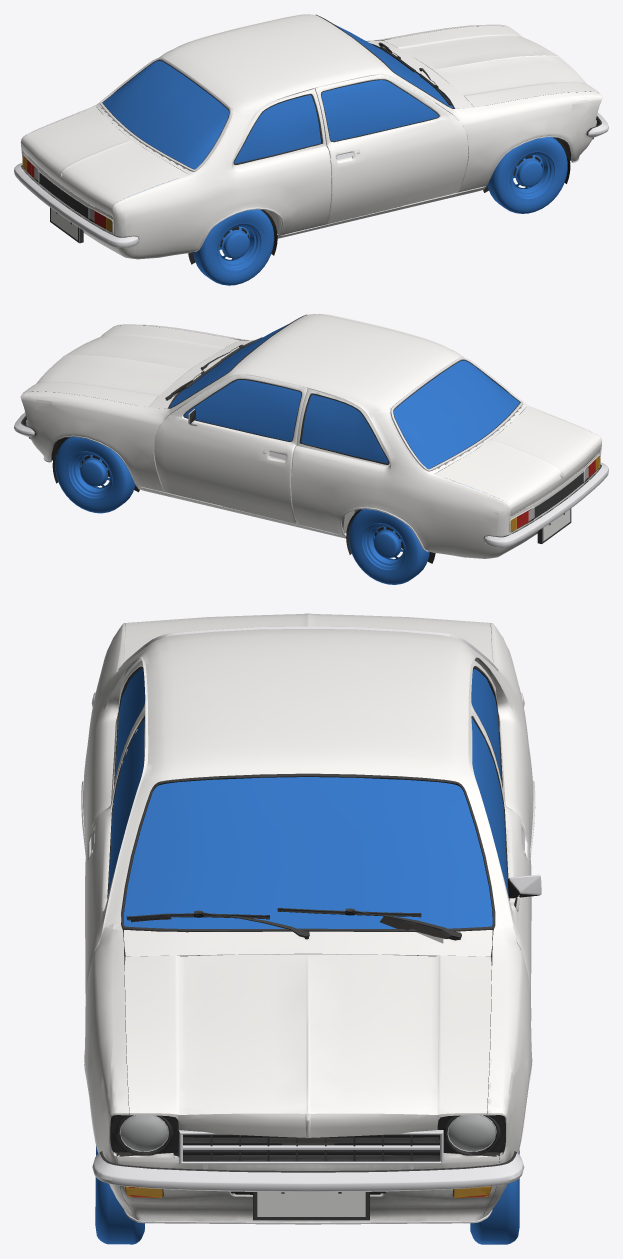
File: lambari.glb
3 views of the same model, one above another, from view 1: azimuth 30°, elevation 25°; view 2: azimuth 150°, elevation 25°; view 3: azimuth 270°, elevation 25° (orthographic). The views are drawn at different scales.
Parts seen in each view (by area): view 1: body, door_fr, hood, trunk, glass_rear, fender_front_right, glass_door_fr, glass_door_rr, wheel_fr_tire, wheel_rr_tire, bumper_rear, wheel_fr_rim (+3 smaller); view 2: body, door_fl, hood, trunk, glass_rear, fender_front_left, glass_door_fl, glass_door_rl, wheel_fl_tire, wheel_rl_tire, bumper_rear, wheel_rl_rim (+3 smaller); view 3: body, hood, glass_windshield, bumper_front, fender_front_left, fender_front_right, grille, trunk, door_fr, plate_front, door_fl, headlight_right (+7 smaller).
Part boxes in pixels (box(x1,y1,x2,y2)): body: box(20, 14, 596, 264); door_fr: box(315, 74, 468, 223); hood: box(383, 26, 598, 107); trunk: box(21, 103, 190, 216); glass_rear: box(103, 60, 228, 169); fender_front_right: box(449, 91, 602, 197); glass_door_fr: box(321, 80, 438, 141); glass_door_rr: box(234, 95, 320, 163); wheel_fr_tire: box(487, 137, 567, 213); wheel_rr_tire: box(193, 209, 274, 285); bumper_rear: box(14, 163, 138, 247); wheel_fr_rim: box(510, 151, 554, 199); body: box(26, 314, 601, 563); door_fl: box(154, 374, 307, 523); hood: box(24, 325, 239, 406); trunk: box(432, 403, 601, 516); glass_rear: box(393, 360, 519, 468); fender_front_left: box(20, 380, 192, 497); glass_door_fl: box(184, 380, 301, 440); glass_door_rl: box(301, 394, 388, 463); wheel_fl_tire: box(55, 436, 135, 513); wheel_rl_tire: box(348, 509, 429, 584); bumper_rear: box(484, 462, 608, 547); wheel_rl_rim: box(361, 523, 405, 570); body: box(81, 623, 535, 1224); hood: box(124, 954, 491, 1137); glass_windshield: box(124, 777, 492, 928); bumper_front: box(92, 1151, 524, 1194); fender_front_left: box(383, 915, 532, 1217); fender_front_right: box(84, 923, 163, 1217); grille: box(179, 1129, 443, 1164); trunk: box(123, 613, 493, 663); door_fr: box(85, 710, 167, 1002); plate_front: box(253, 1192, 369, 1220); door_fl: box(471, 710, 531, 1003); headlight_right: box(111, 1115, 178, 1156).
Bounding box in the file's own units: 4.12 × 1.35 × 1.61.
12 materials, 6 textured.
